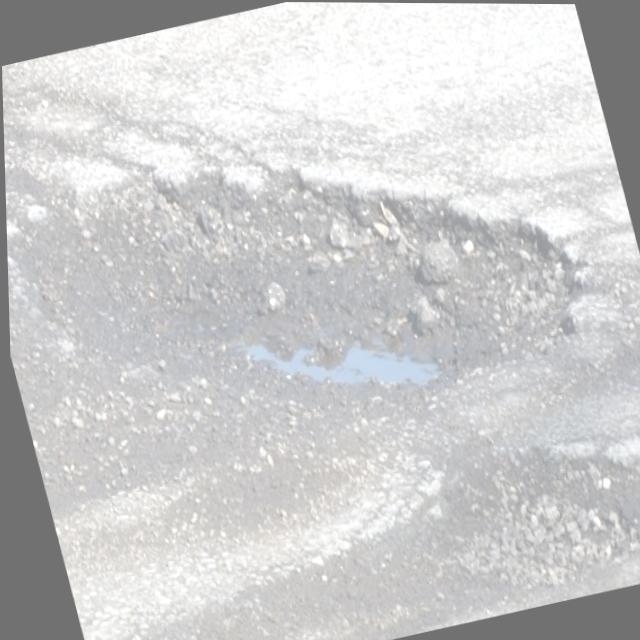Pothole: (2, 165, 595, 423)
